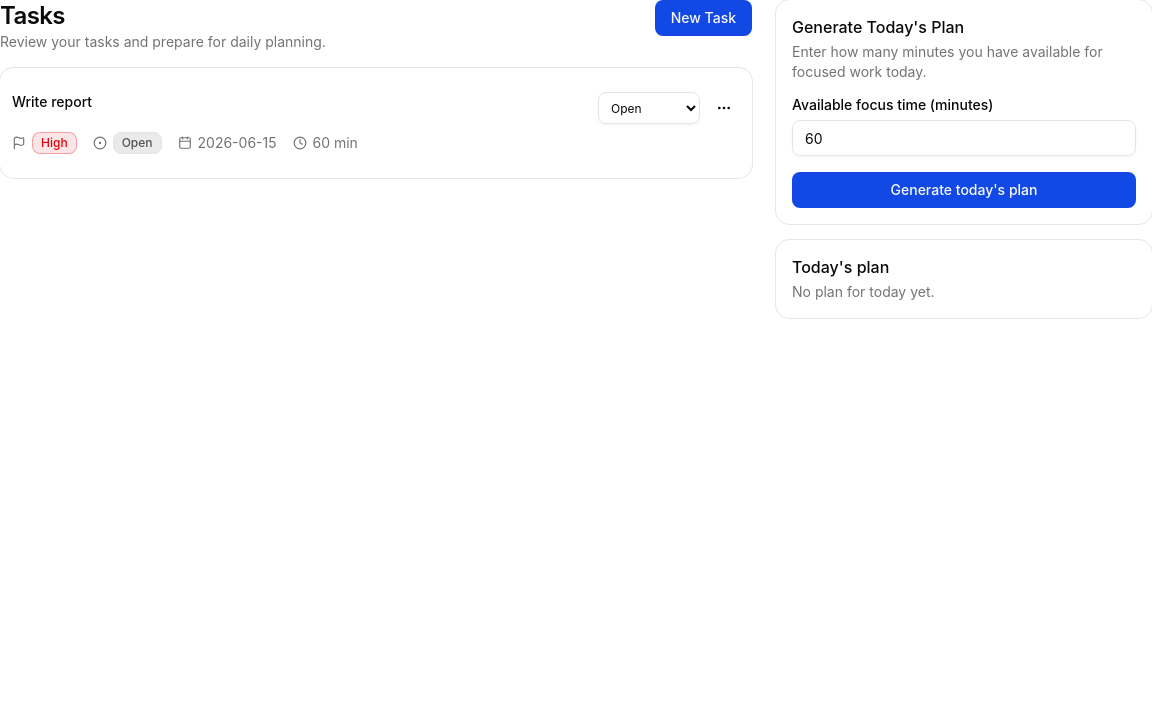
Test: DashboardPage › opens edit sheet with selected task when edit action is clicked
Click the button named "task actions for write report": (724, 108) [708,92,740,124]
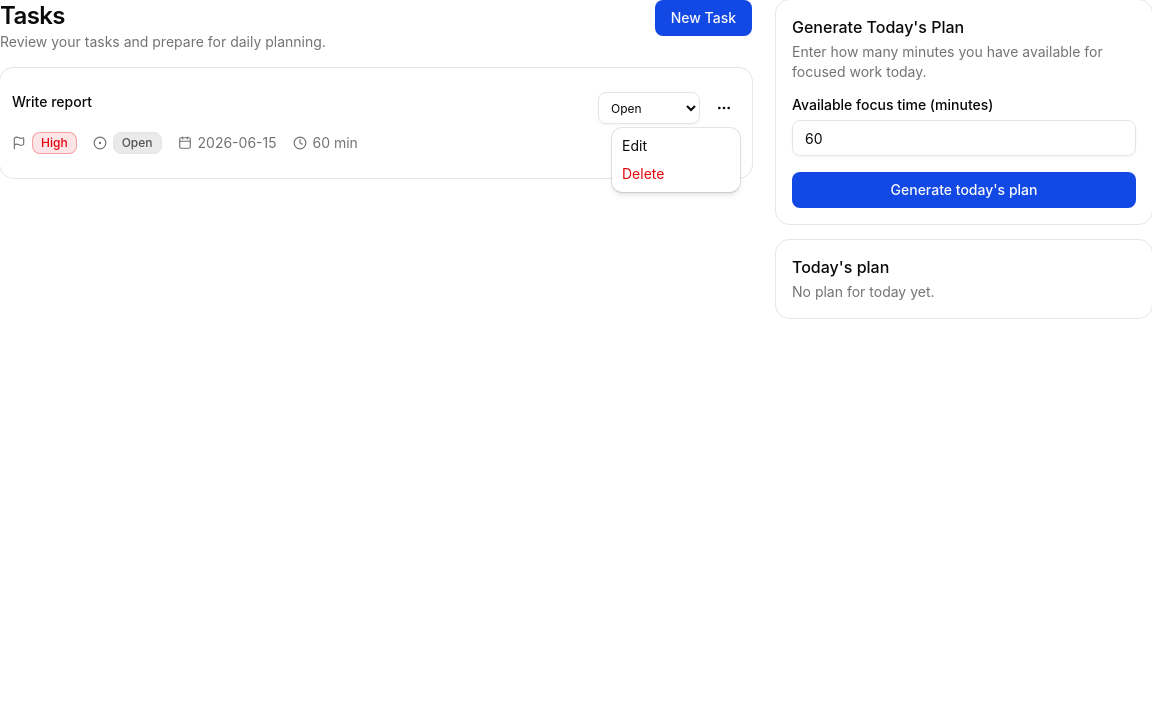
Click the menu item "Edit": (634, 146) [622,137,647,154]
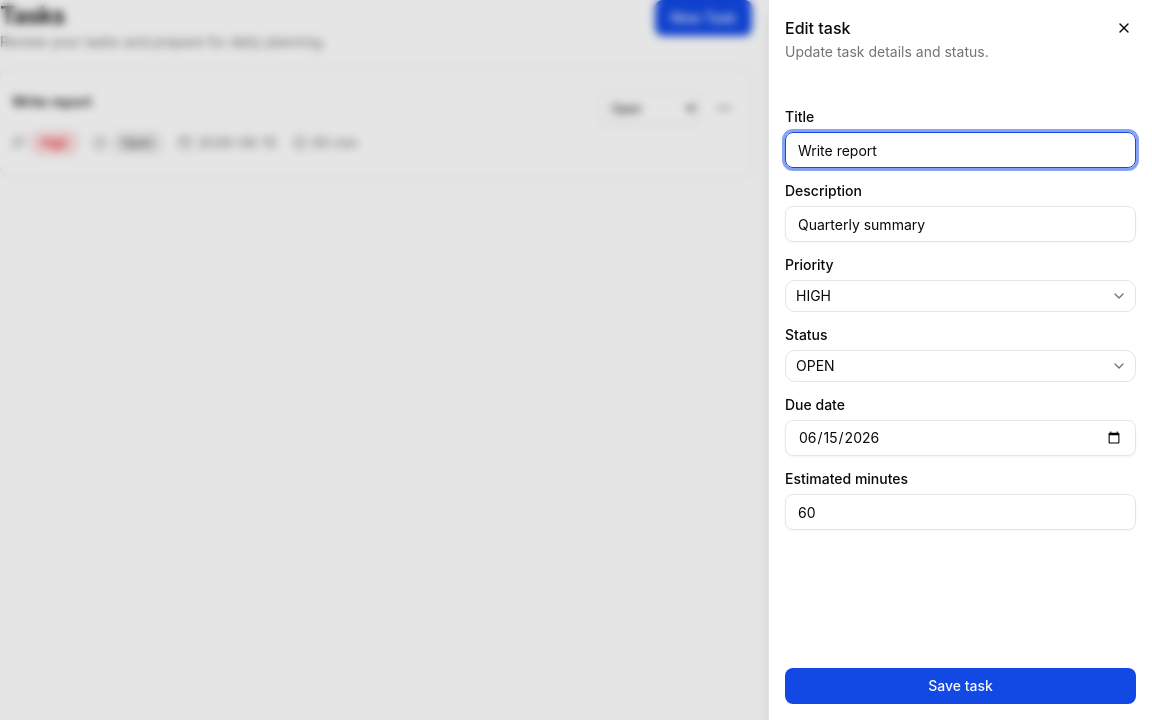
Check: the dialog is shown, box [768,0,1151,719]
Check: the heading "Edit task" is shown, box [785,18,850,38]
Check: the field labelled "Title" holds "Write report", box [785,132,1136,168]
